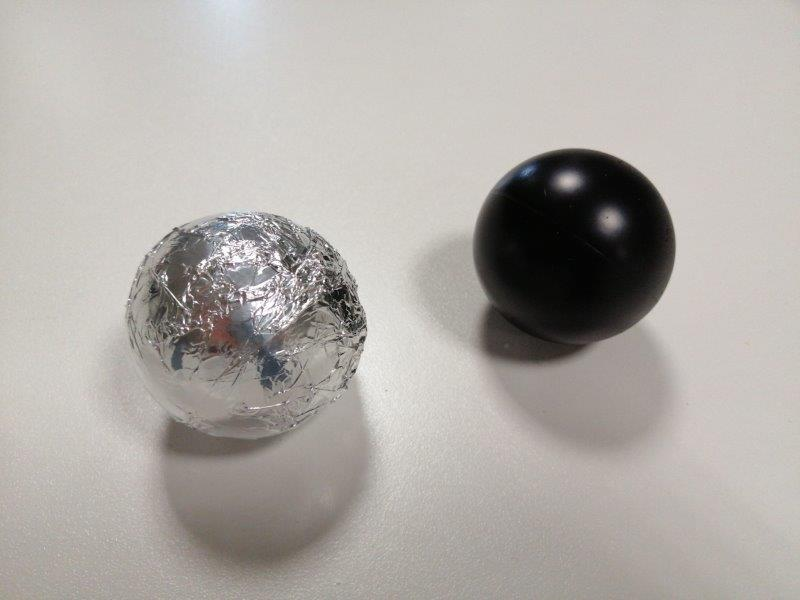bianca: (129, 212, 364, 439)
nera: (474, 143, 676, 346)
